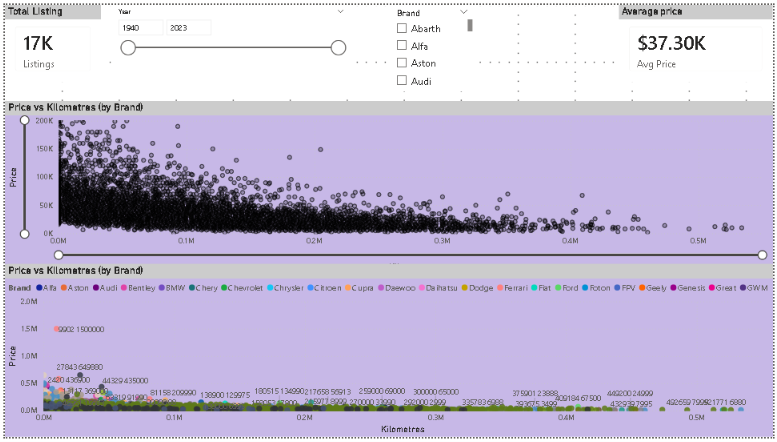

This screenshot's page, from the dashboard's own definition file:
{"tool":"powerbi","page":{"name":"Price Drivers","canvas":[1280,720],"ordinal":2},"visuals":[{"type":"scatterChart","title":"Price vs Kilometres (by Brand)","fields":{"Y":["Aus_cars.Price"],"X":["Aus_cars.Kilometres"]},"box":[0,160,1280,288],"z":0},{"type":"scatterChart","title":"Price vs Kilometres (by Brand)","fields":{"Y":["Aus_cars.Price"],"X":["Aus_cars.Kilometres"],"Series":["Aus_cars.Brand"]},"box":[0,432,1280,288],"z":1},{"type":"slicer","fields":{"Values":["Aus_cars.Year"]},"box":[176,0,400,144],"z":2},{"type":"cardVisual","title":"Total Listing","fields":{"Data":["Aus_cars.Listings"]},"box":[0,0,160,128],"z":3},{"type":"slicer","fields":{"Values":["Aus_cars.Brand"]},"box":[640,0,144,144],"z":4},{"type":"cardVisual","title":"Average price","fields":{"Data":["Aus_cars.Avg Price"]},"box":[1024,0,256,128],"z":5}]}

Visuals, with their boxes in screenshot pixels (x1, y1, x2, y2), scaled from the page's 1280x720 canvas onto the 777x442 screenshot:
"Price vs Kilometres (by Brand)" scatterChart: detection(0, 98, 776, 275)
"Price vs Kilometres (by Brand)" scatterChart: detection(0, 265, 776, 441)
slicer - Aus_cars.Year: detection(107, 0, 350, 88)
"Total Listing" cardVisual: detection(0, 0, 97, 79)
slicer - Aus_cars.Brand: detection(388, 0, 476, 88)
"Average price" cardVisual: detection(622, 0, 776, 79)
